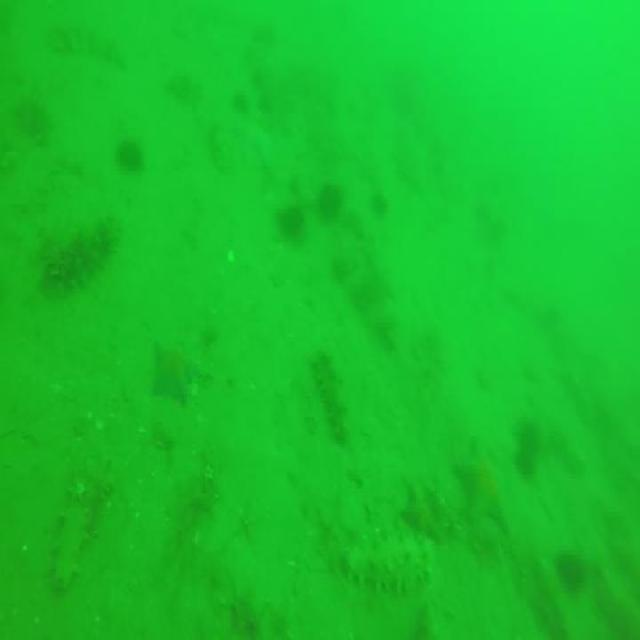echinus: (554, 547, 586, 591), (116, 136, 144, 172), (278, 202, 307, 235)
holothurian: (52, 436, 112, 599), (341, 525, 439, 594), (42, 218, 124, 283), (52, 14, 124, 70), (314, 351, 348, 441)
starfish: (452, 430, 508, 532), (399, 458, 454, 534), (152, 337, 200, 403), (230, 111, 278, 161)
